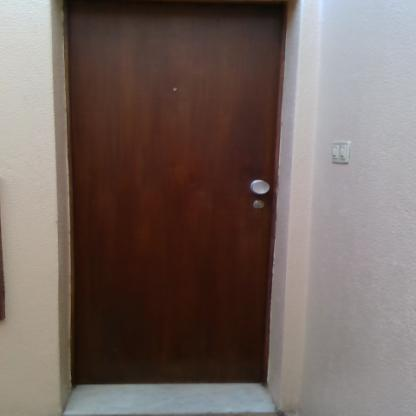door: (67, 3, 274, 382)
knob: (250, 176, 271, 197)
